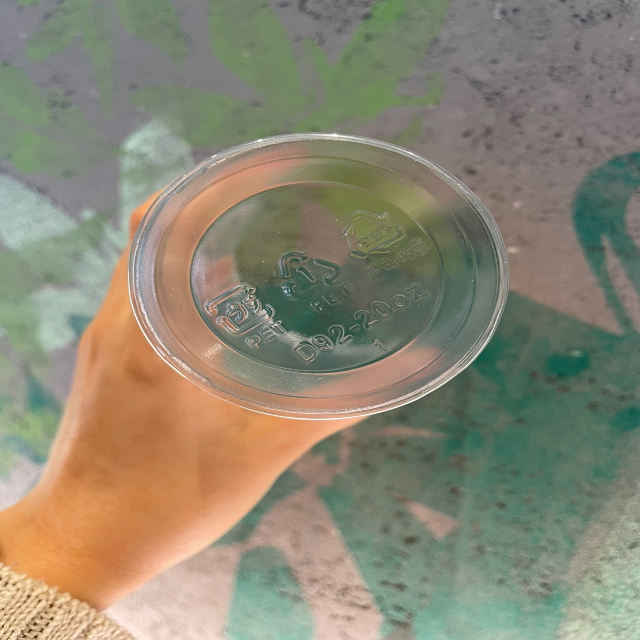pet: (343, 202, 435, 282), (203, 277, 289, 348), (277, 244, 355, 311)
